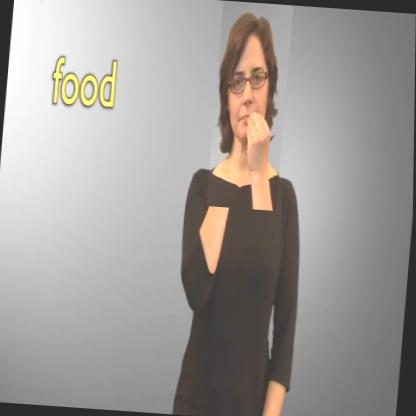Food: (207, 1, 293, 211)
